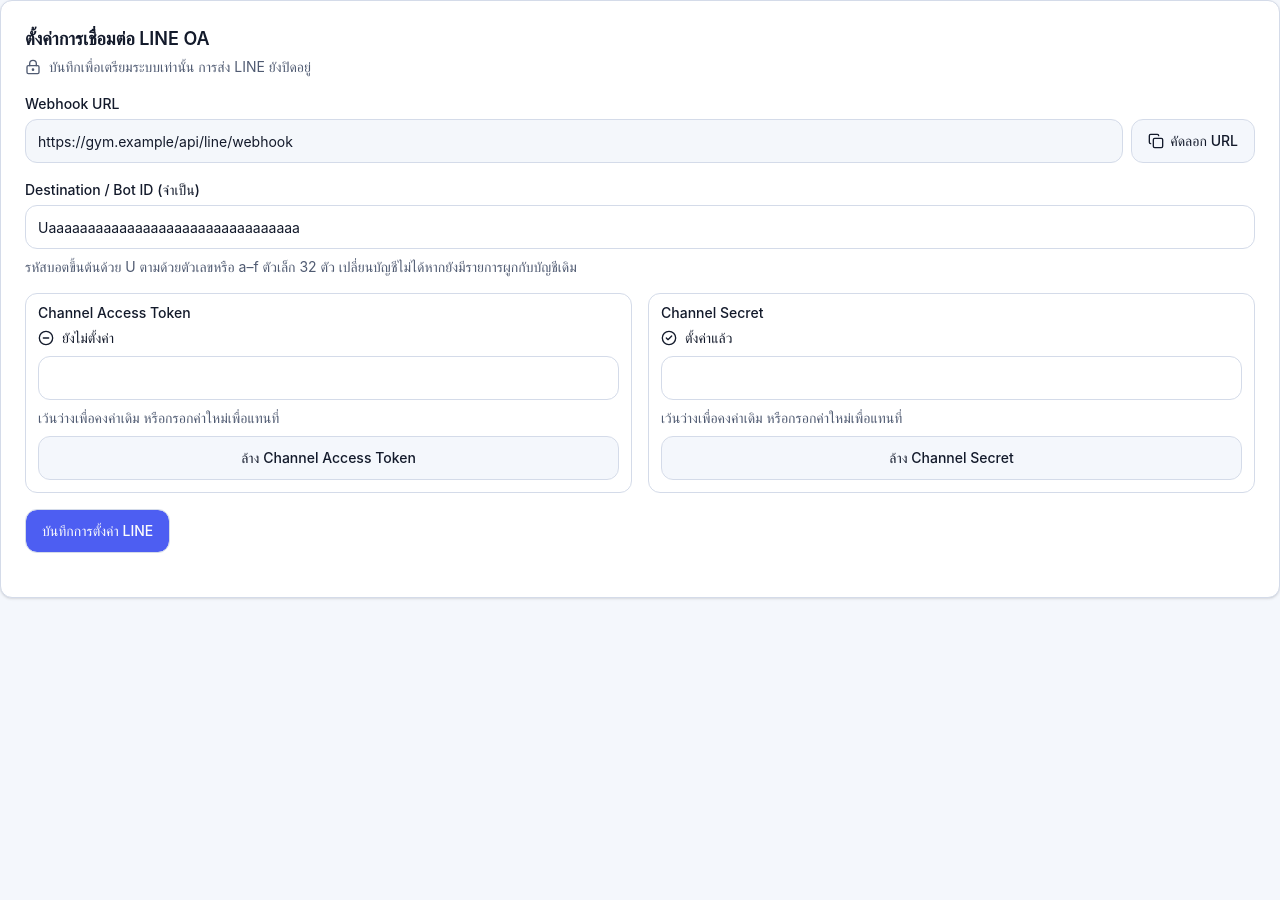
Test: คัดลอก URL ที่ตั้งไว้หรือเลือกข้อความให้คัดลอกเอง เมื่อ clipboard ใช้ได้=true
The width and height of the screenshot is (1280, 900).
Check: the field labelled "Webhook URL" holds "https://gym.example/api/line/webhook", box 25,119 -> 1123,163
Click the button "คัดลอก URL": [1193, 141] box 1131,119 -> 1255,163
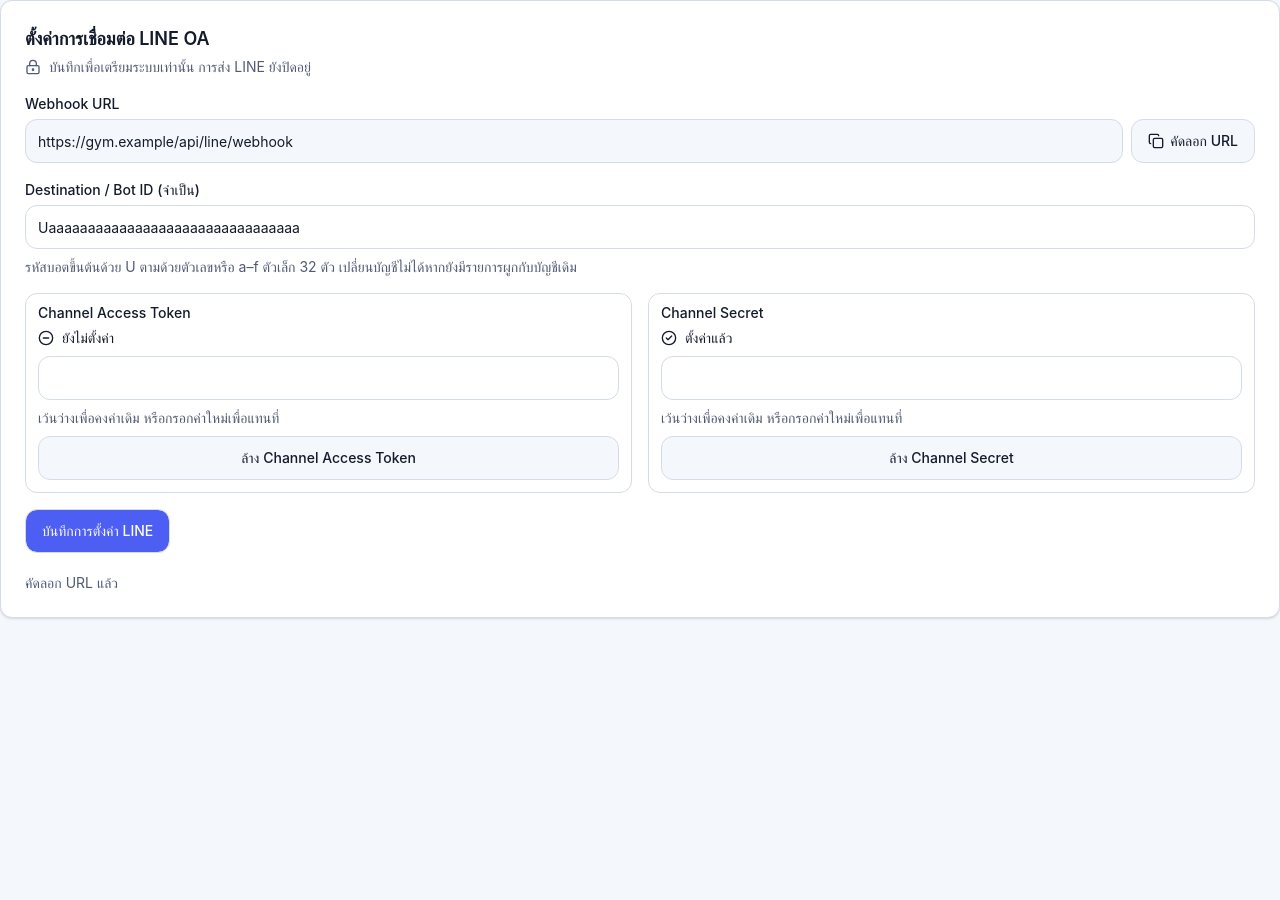
Check: the message reads "คัดลอก URL แล้ว", box 25,574 -> 118,591
